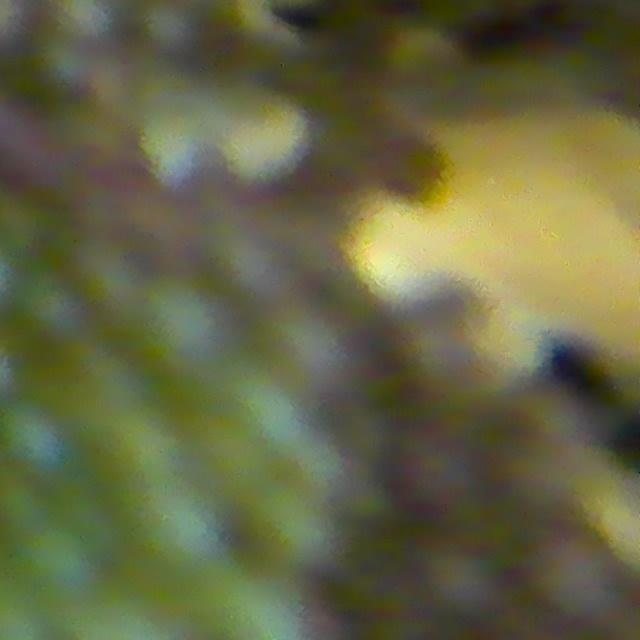SeaGrape: (524, 523, 610, 620), (137, 481, 218, 579), (139, 281, 231, 363), (245, 482, 330, 568), (19, 519, 100, 598), (0, 396, 74, 482), (425, 547, 502, 621), (13, 275, 81, 343)
